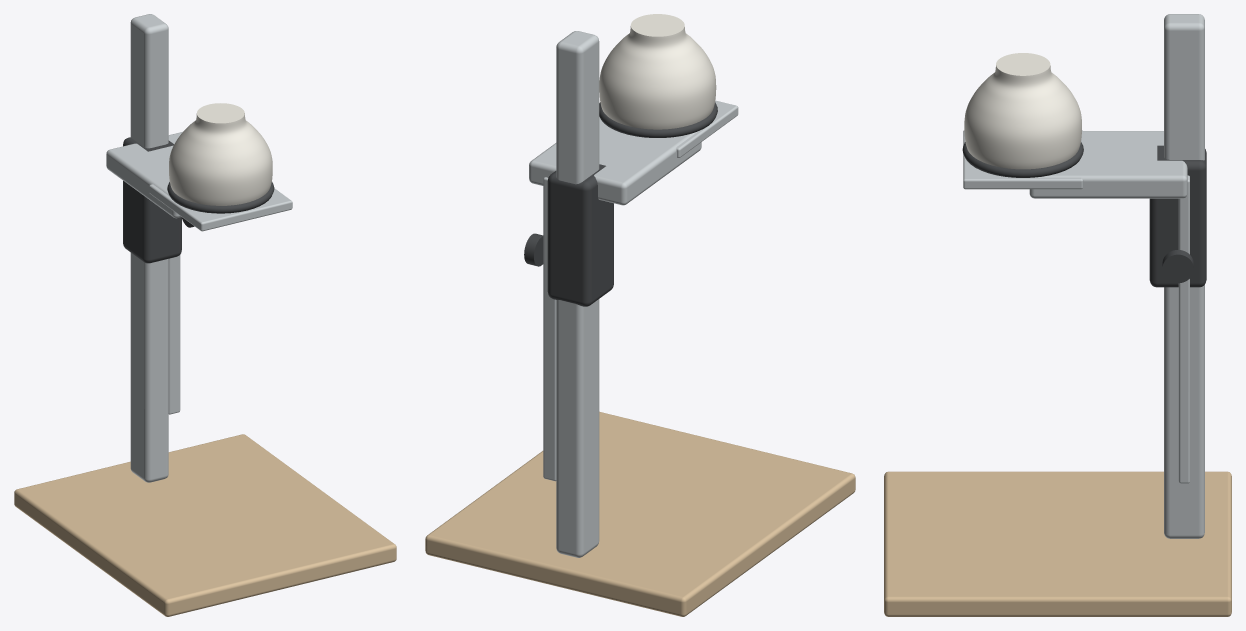
The model's file is camera-repair-and-darkroom-laboratory-condenser-enlarg-69806e57__31802.glb.
3 renders of one model, left to right at view 1: azimuth 30°, elevation 25°; view 2: azimuth 150°, elevation 25°; view 3: azimuth 270°, elevation 25°, orthographic. The views are drawn at different scales.
Visible parts, largest first — view 1: condenser-enlarger; view 2: condenser-enlarger; view 3: condenser-enlarger.
Part boxes in pixels (x1,y1,x2,y2): condenser-enlarger: (14,14,396,616); condenser-enlarger: (425,14,855,616); condenser-enlarger: (884,14,1231,616).
Size of the model in its own units: 0.48 by 0.935 by 0.55.
